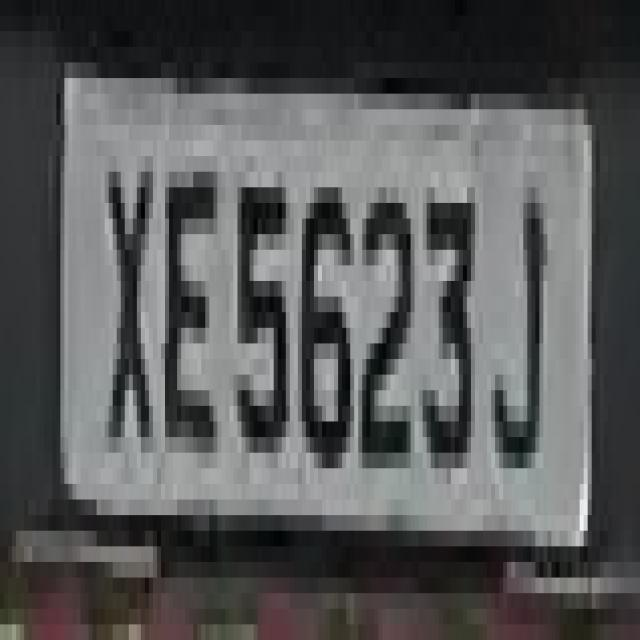2: (346, 140, 411, 530)
3: (411, 109, 483, 546)
5: (233, 110, 302, 500)
6: (286, 140, 350, 530)
E: (157, 141, 221, 515)
J: (479, 172, 555, 530)
X: (93, 47, 169, 546)
